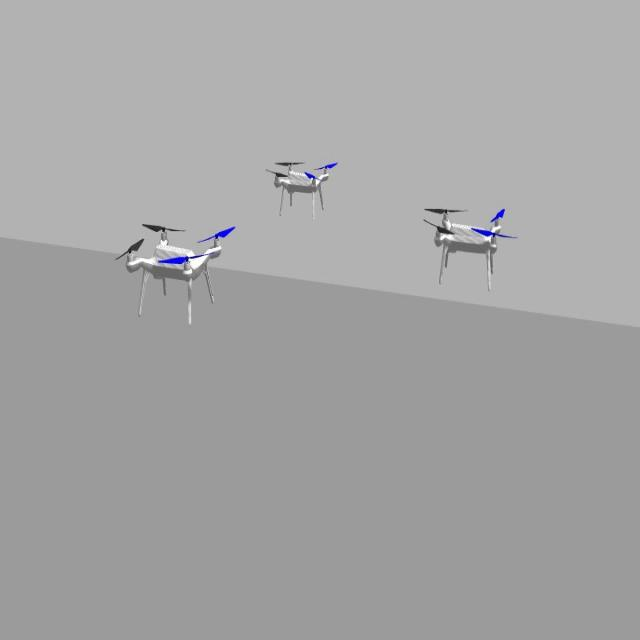Drone: (267, 147, 342, 221)
